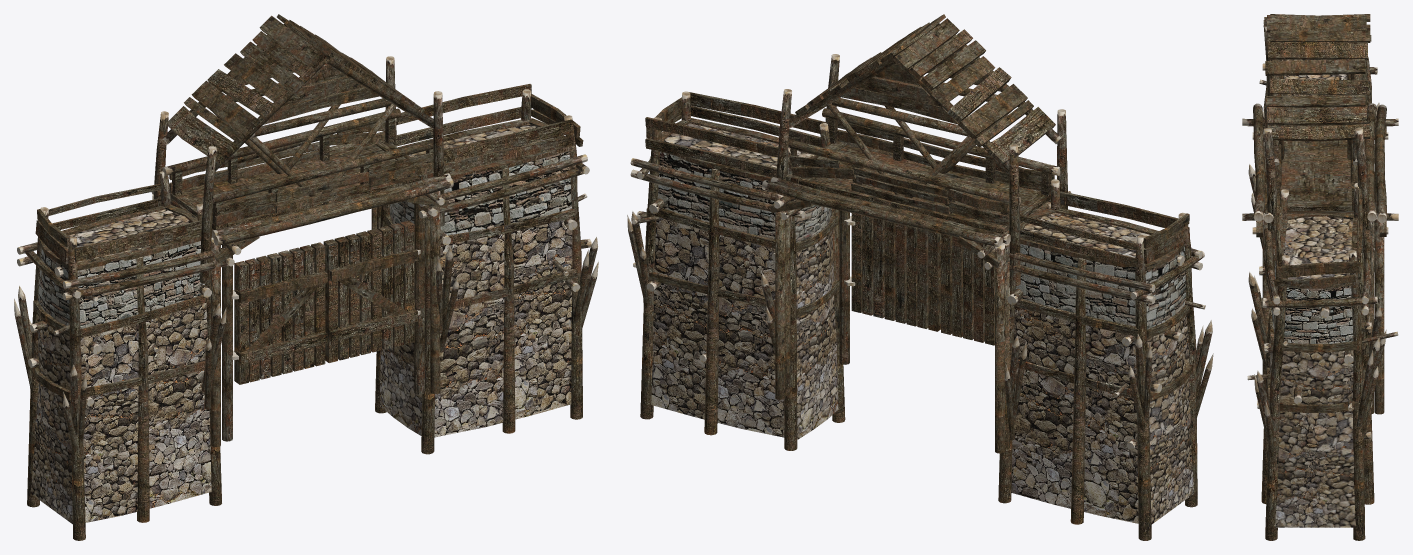
The model's file is gaul_gate.glb.
The picture shows the model from 3 angles, left to right: view 1: azimuth 30°, elevation 25°; view 2: azimuth 150°, elevation 25°; view 3: azimuth 270°, elevation 25°; orthographic projection. The views are drawn at different scales.
Visible parts, largest first — view 1: gaul_gate_part0; view 2: gaul_gate_part0; view 3: gaul_gate_part0.
Part boxes in pixels (bbox=[...]): gaul_gate_part0: bbox=[14, 14, 598, 540]; gaul_gate_part0: bbox=[627, 14, 1213, 540]; gaul_gate_part0: bbox=[1242, 14, 1398, 540].
Bounding box in the file's own units: 3.8 × 2.85 × 0.9909.
1 material, 1 textured.
